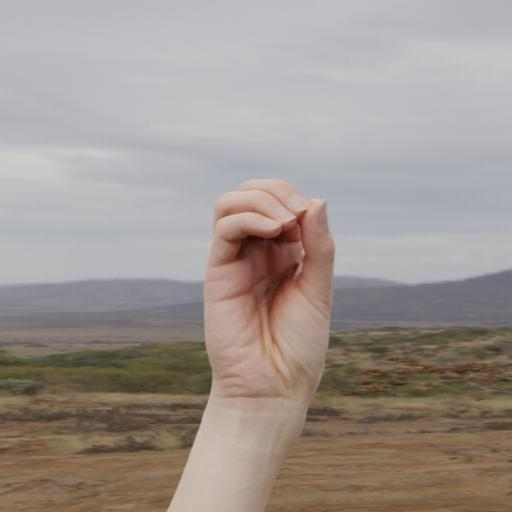O: (177, 161, 361, 424)
